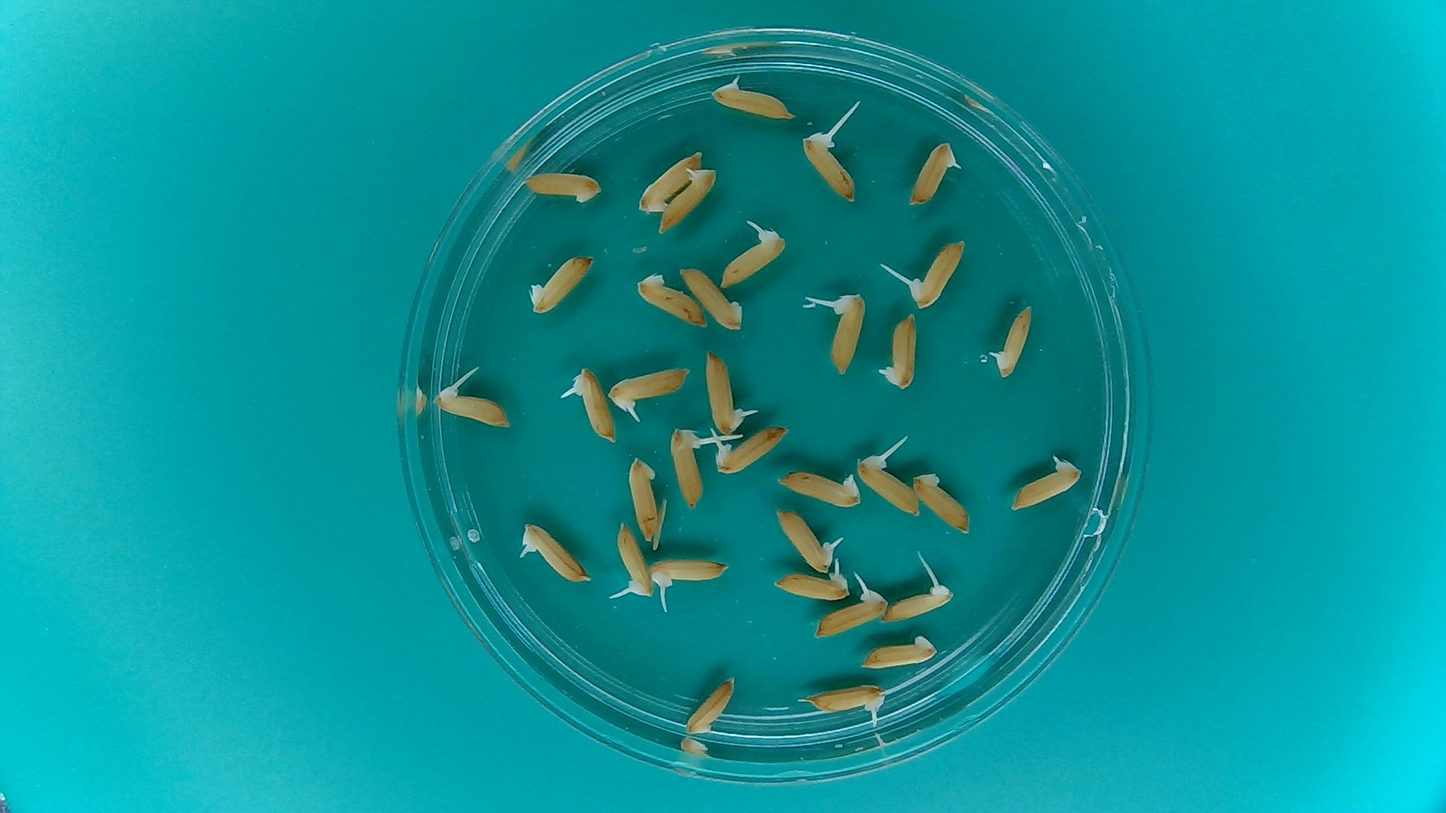no: (525, 248, 599, 317), (636, 149, 704, 214), (679, 267, 743, 331), (634, 273, 708, 327), (912, 474, 972, 534), (682, 672, 738, 735), (521, 165, 605, 206), (859, 634, 943, 674), (777, 471, 863, 508), (628, 450, 660, 541)
yes: (856, 453, 920, 525), (1005, 458, 1081, 514), (523, 523, 590, 585), (910, 236, 966, 309), (657, 167, 718, 234), (801, 131, 857, 203), (774, 513, 840, 574), (721, 230, 789, 288), (990, 299, 1036, 380), (880, 574, 953, 624), (828, 285, 870, 370), (716, 425, 786, 476), (767, 563, 857, 602), (880, 309, 922, 391), (816, 589, 889, 636), (907, 137, 956, 204), (670, 428, 710, 510), (612, 369, 688, 411), (435, 390, 514, 429), (806, 682, 886, 720), (706, 356, 743, 436), (576, 365, 616, 438), (708, 84, 789, 120), (615, 525, 652, 601), (648, 557, 727, 589)
